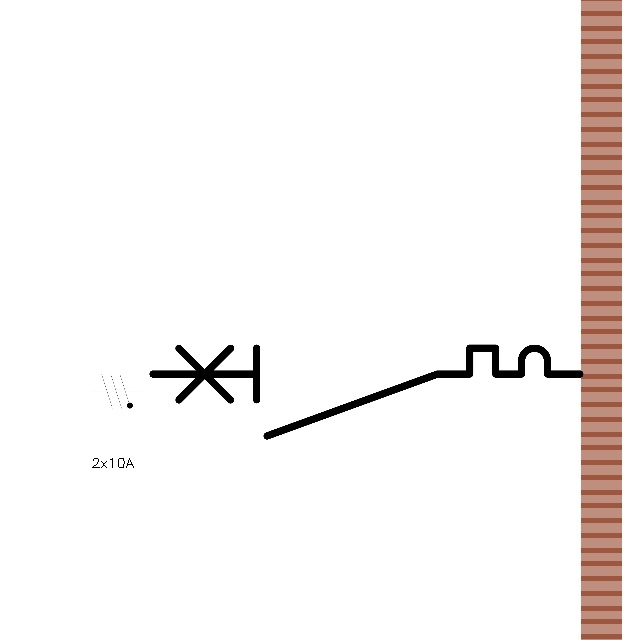interruptor_termomagnetico: (141, 337, 590, 447)
